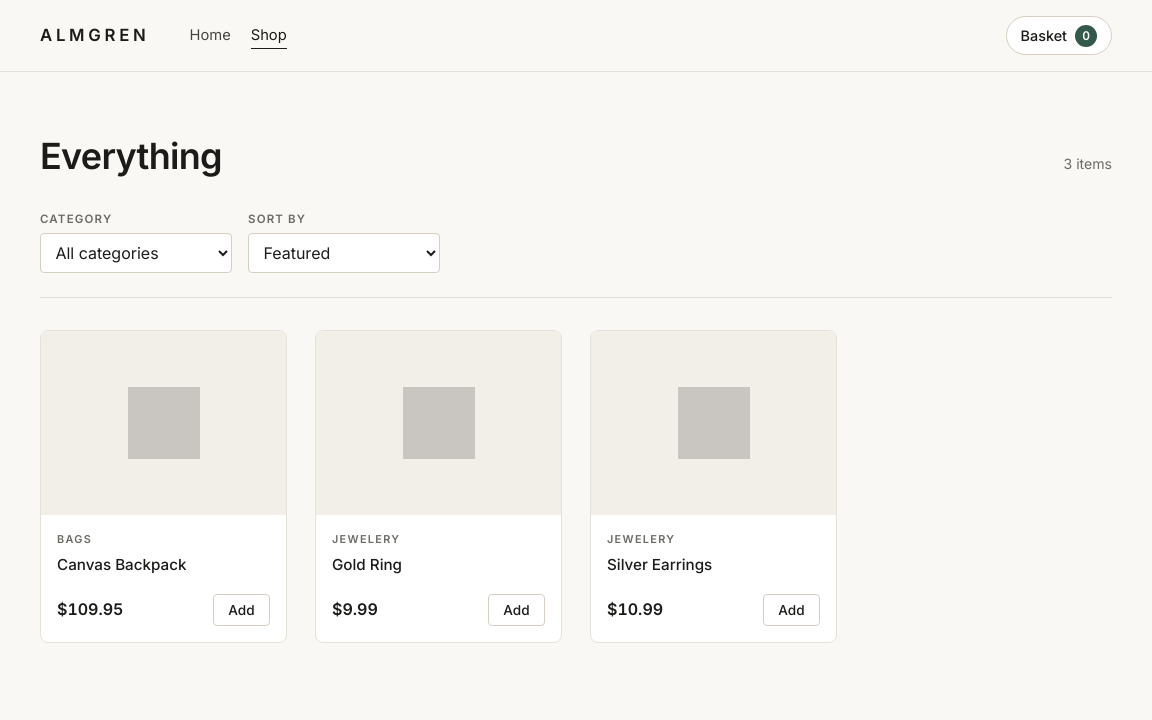
Scenario: the shop › sorts by price
Select "Price, low to high" in the dropdown labelled "Sort by" at (344, 253), box [248, 233, 440, 273]
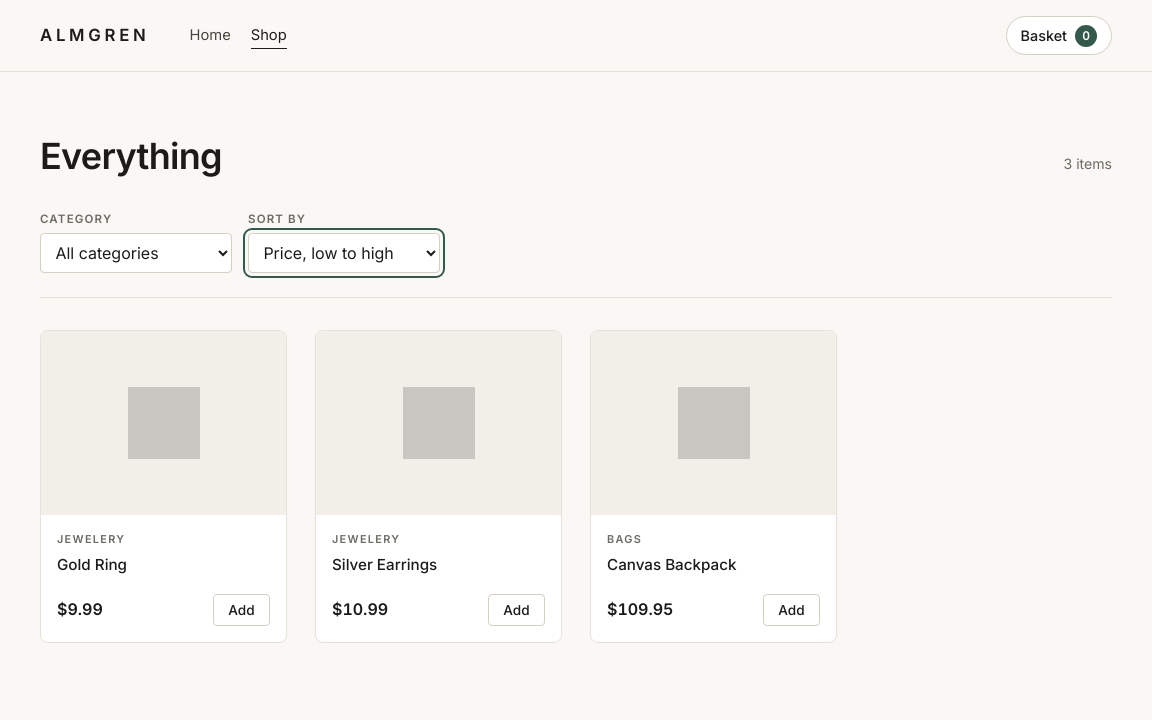
Expected: the headings read "Gold Ring", "Silver Earrings", "Canvas Backpack", in this order, [57, 555, 127, 574]; [332, 555, 437, 574]; [607, 555, 736, 574]
